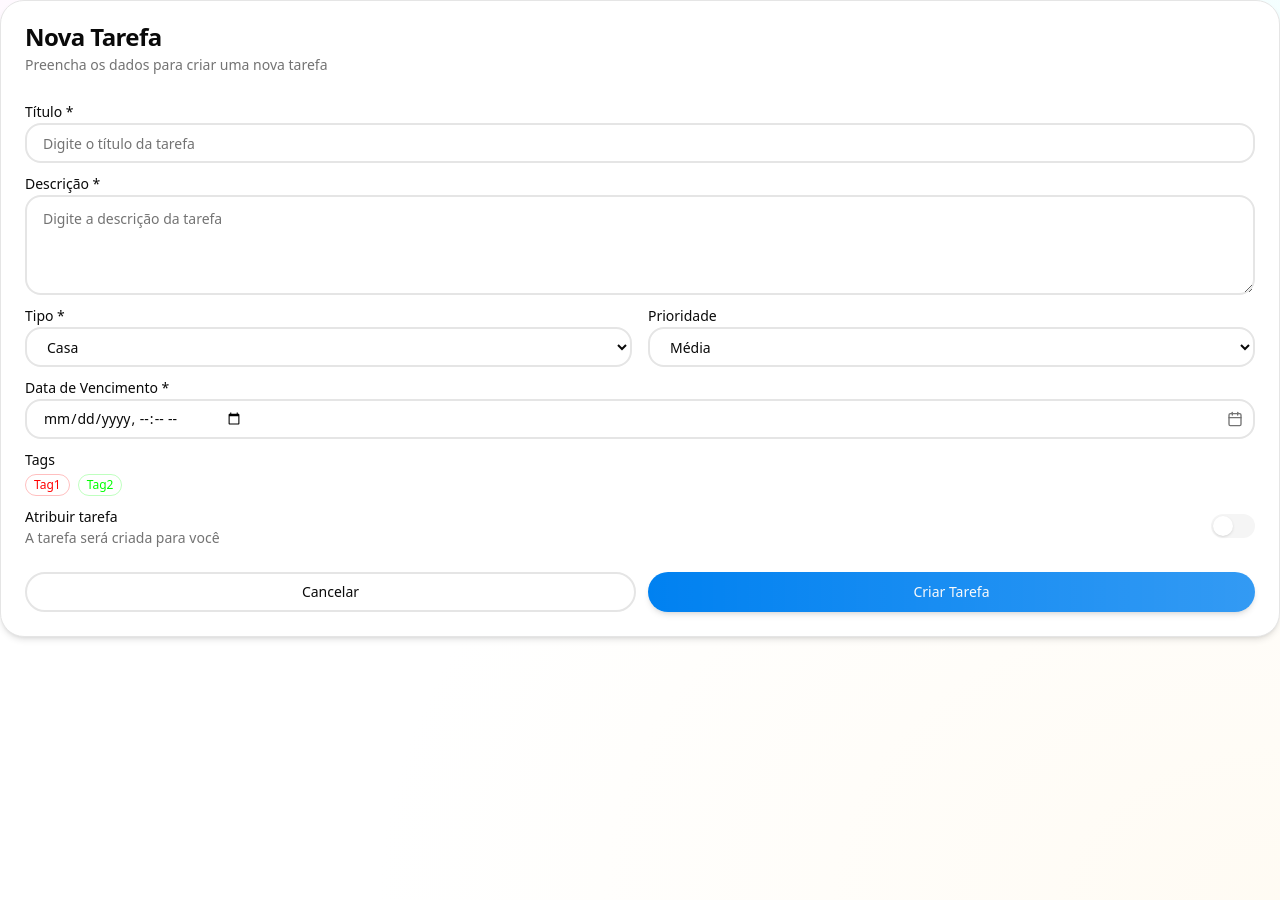
Test: TaskForm Integration › should validate form before submission
Click the button "Criar Tarefa" at (952, 592), box [648,572,1255,612]
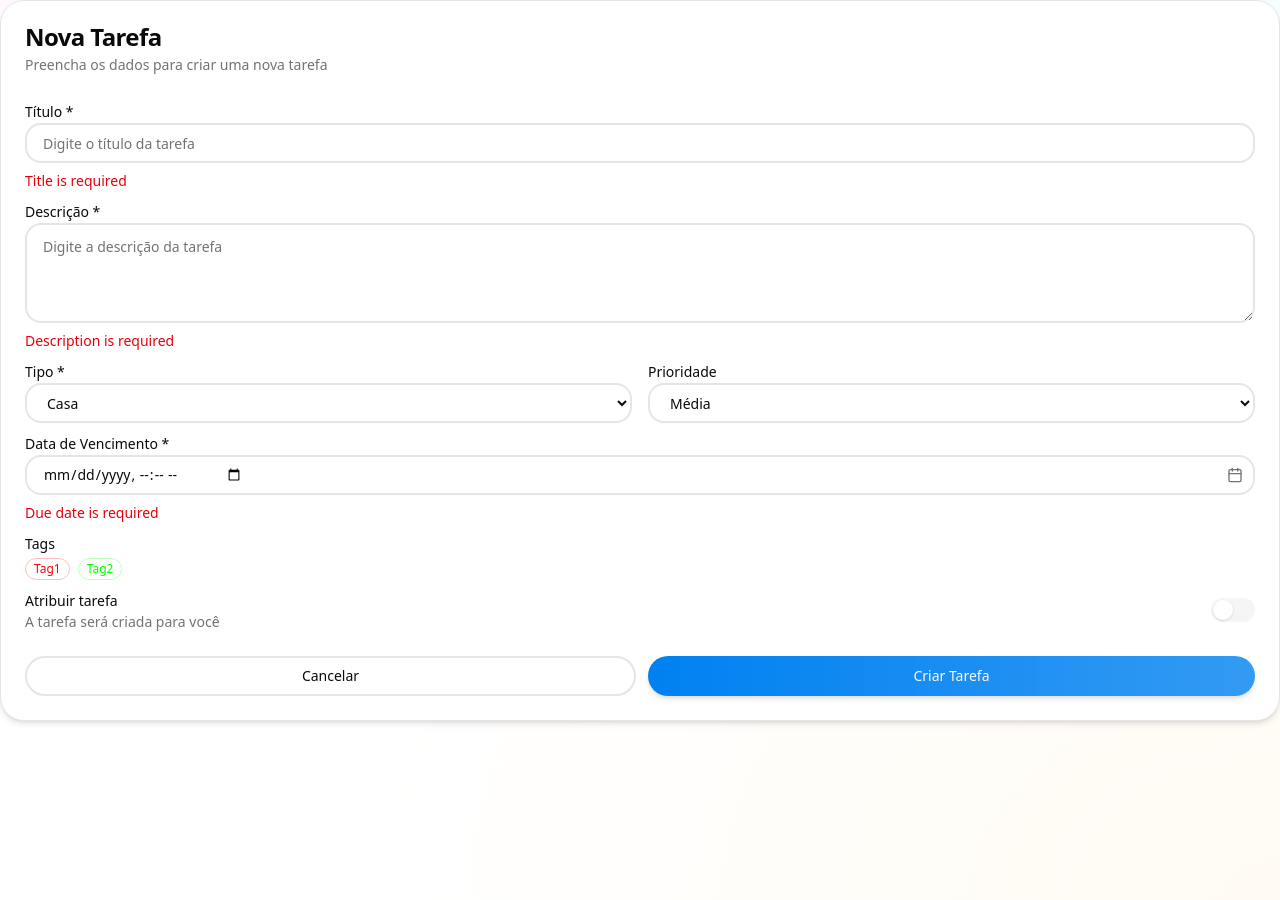
Now the text "Title is required" is shown, box [25,171,127,190]
